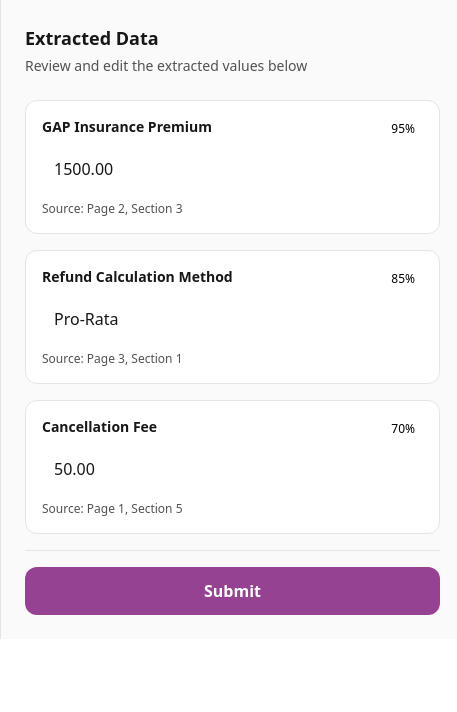
Test: DataPanel Component › Field Editing › should track multiple corrections
The image size is (457, 712).
Edit GAP premium
Click the button "1500.00". click: (84, 169)
box: [54,158,113,180]
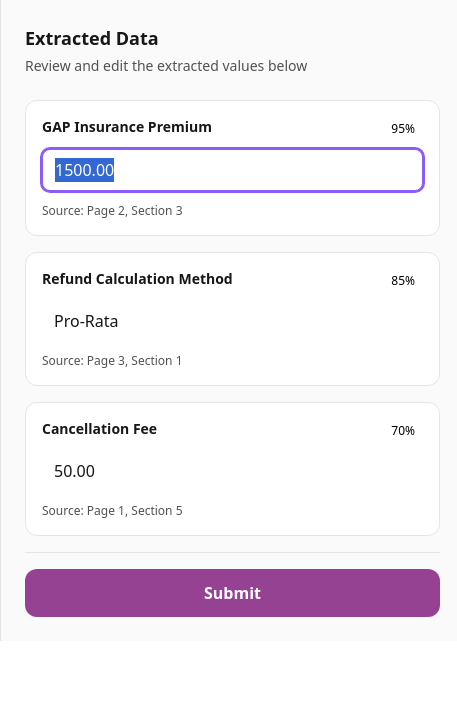
Replace the text in the field with "1600.00". click: (232, 170)
box: [42,149,423,191]
Then press Enter
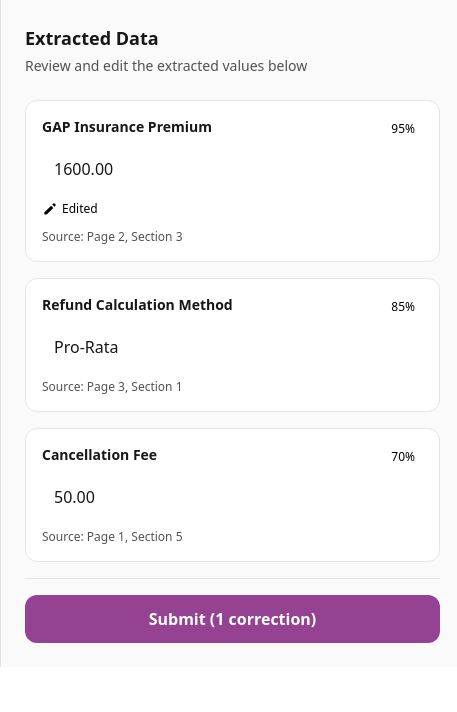
Expected: the button "1600.00" is shown, [54,158,113,180]
Edit cancellation fee
Click the button "50.00". click: (74, 497)
box: [54,486,95,508]
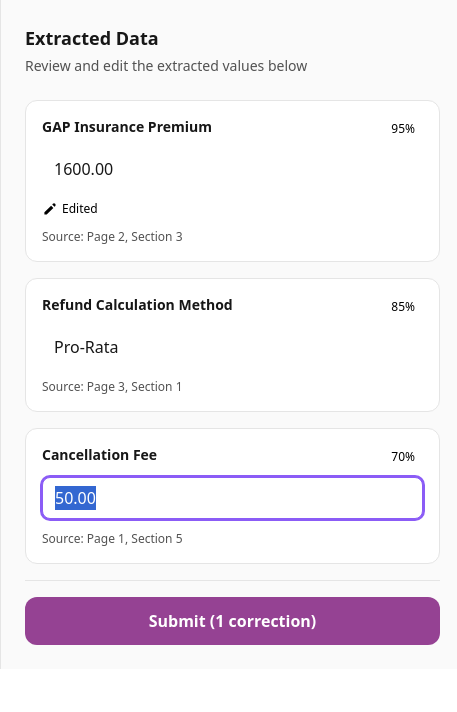
Replace the text in the field with "75.00". click: (232, 498)
box: [42,477,423,519]
Then press Enter
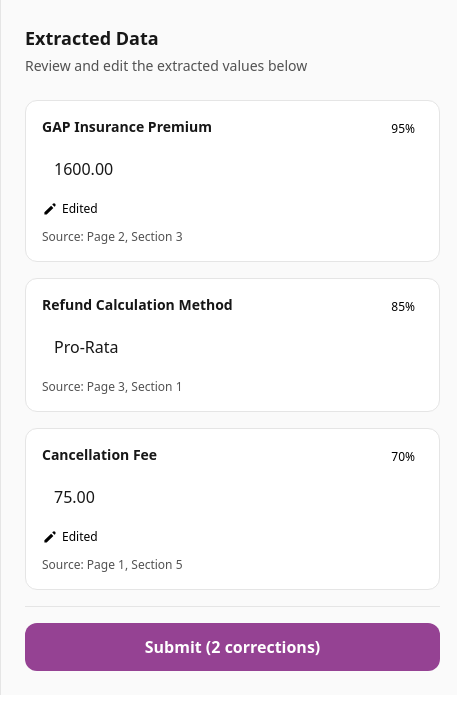
Expected: the button "75.00" is shown, [54,486,95,508]
Expected: the text "Edited" is shown 2 times, [62,201,98,217]; [62,529,98,545]
